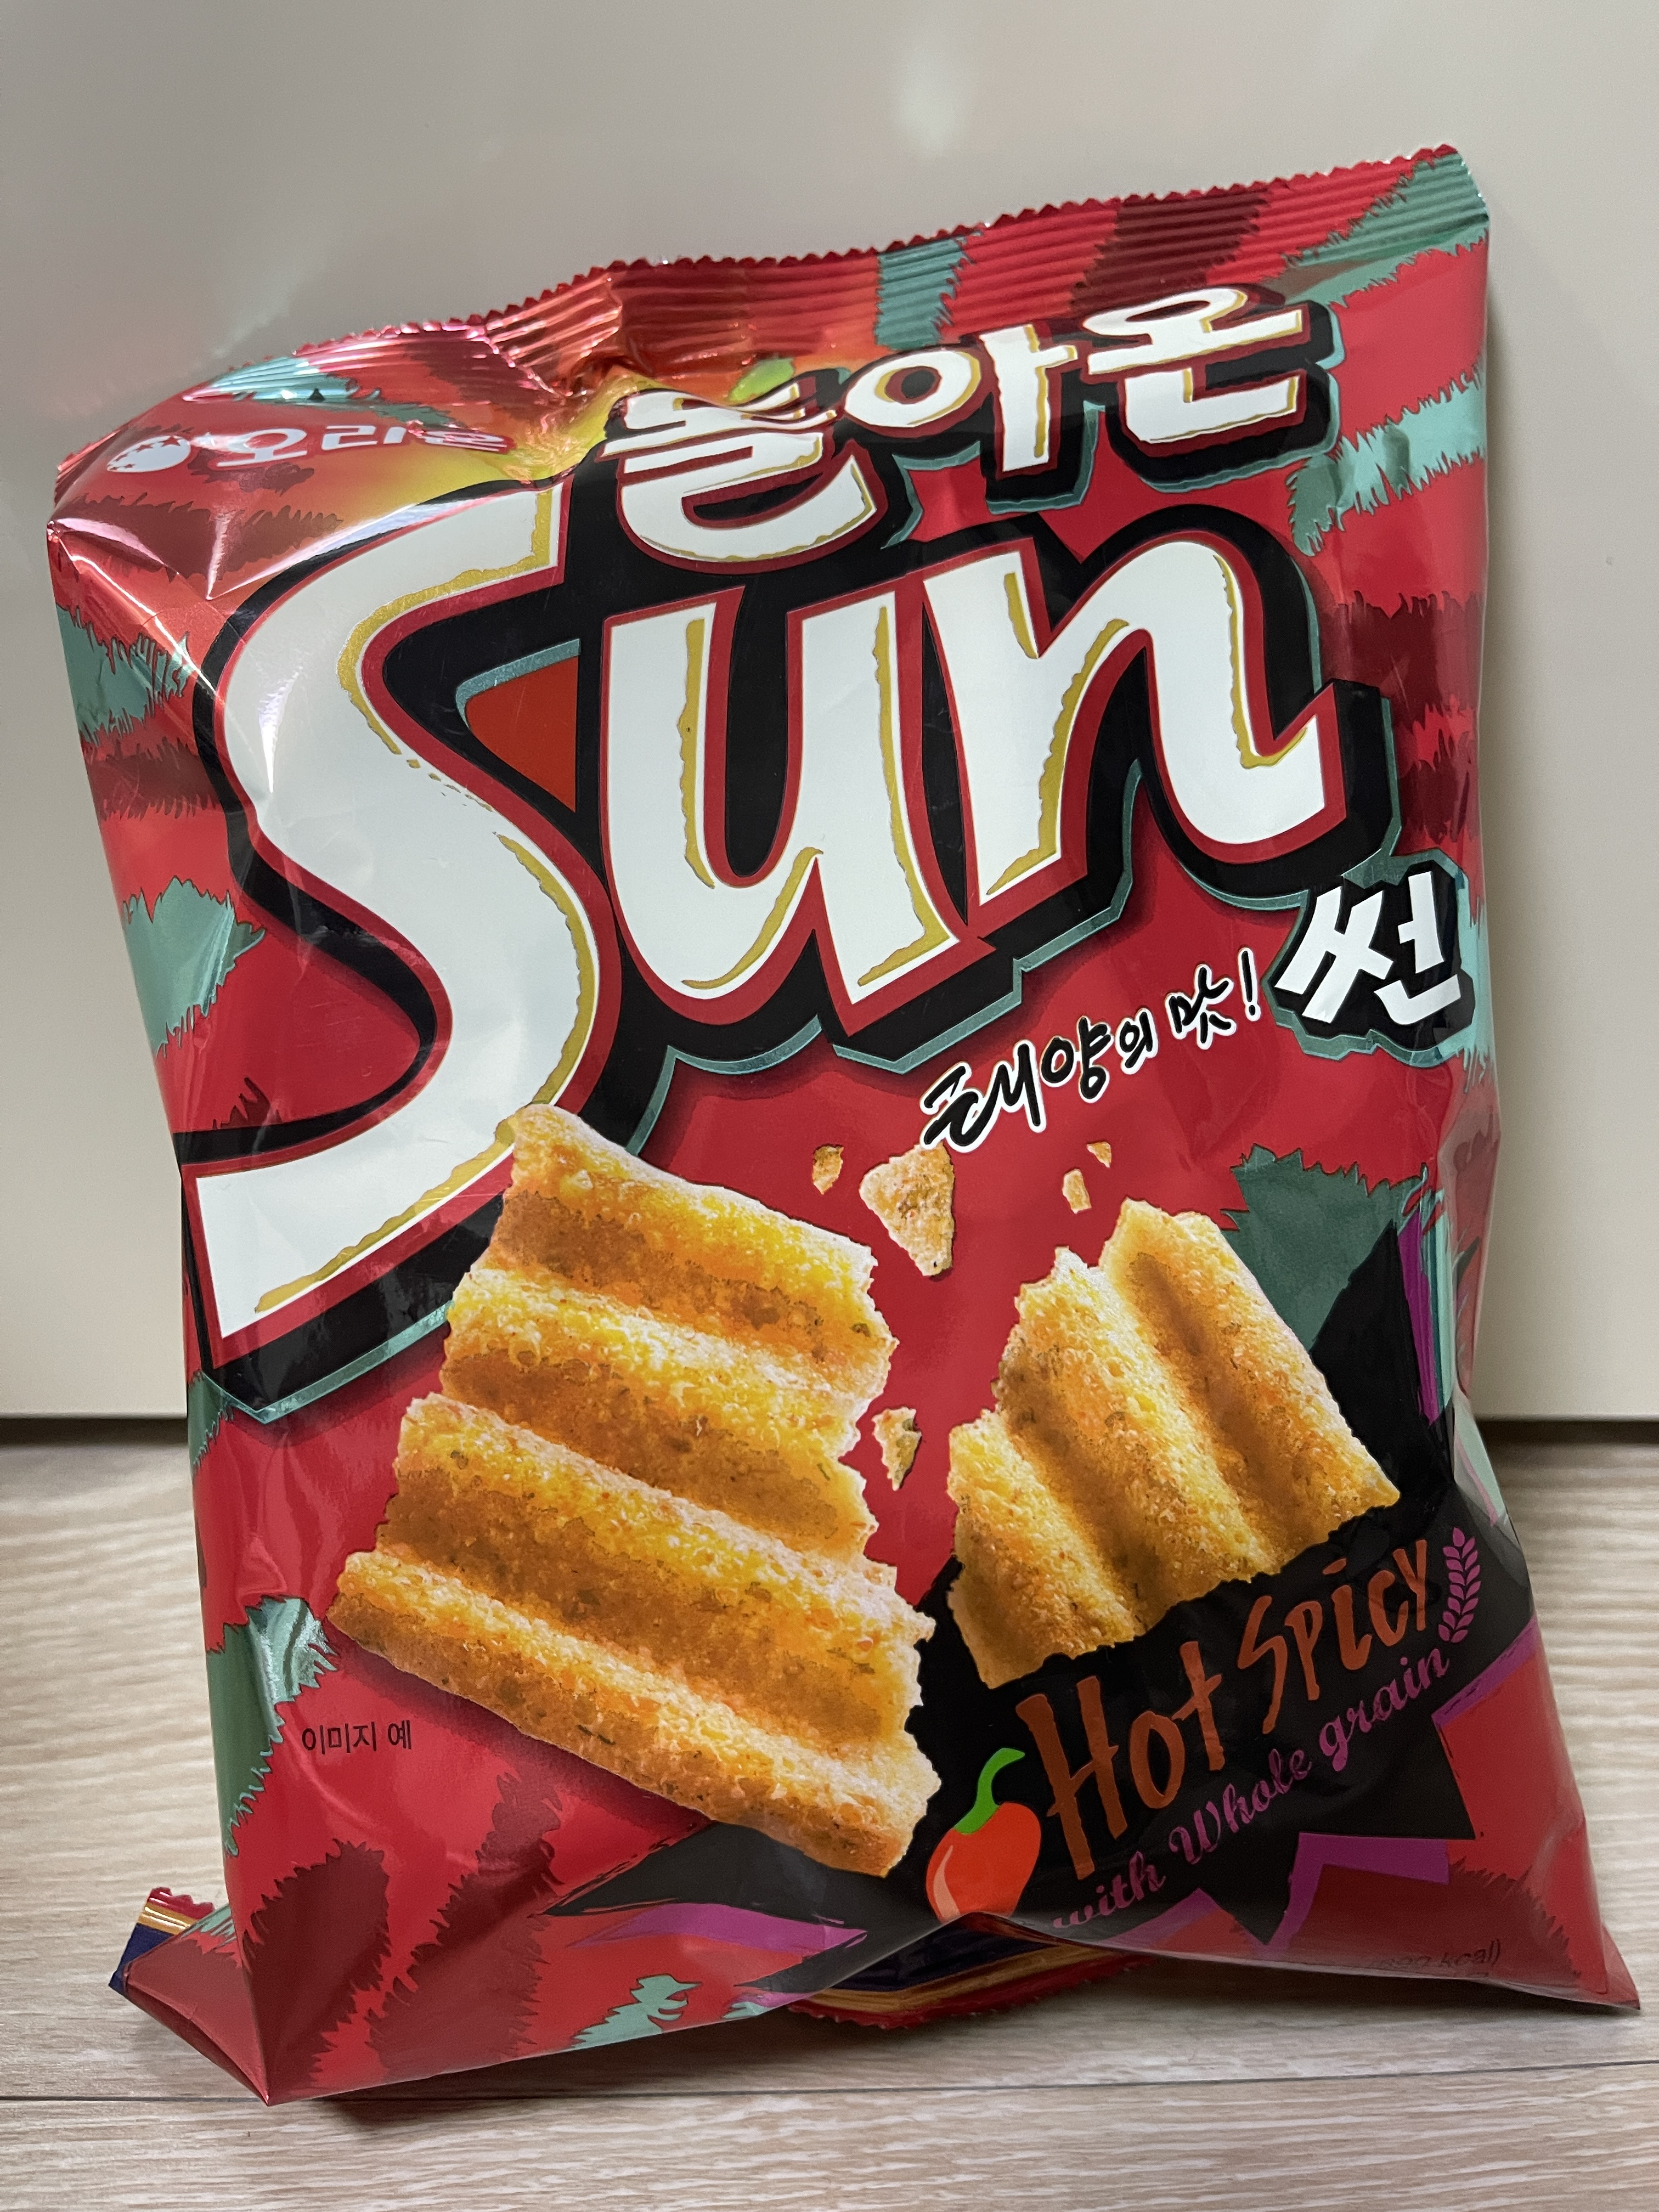snack: (42, 145, 1642, 2116)
